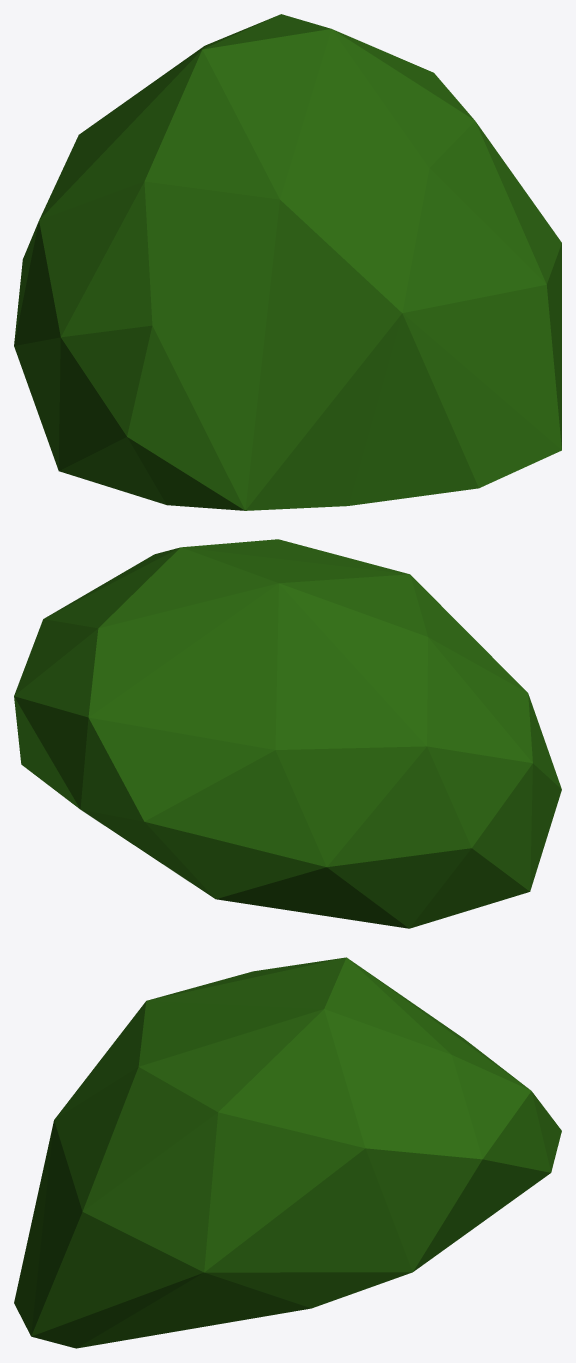
The model's file is SM_bush_01.fbx.
3 renders of one model, top to bottom at view 1: azimuth 30°, elevation 25°; view 2: azimuth 150°, elevation 25°; view 3: azimuth 270°, elevation 25°, orthographic. The views are drawn at different scales.
Visible parts, largest first — view 1: Object020; view 2: Object020; view 3: Object020.
Boxes of the visible parts, box(x1,y1,x2,y2) form: Object020: box(14, 14, 561, 510); Object020: box(14, 539, 561, 928); Object020: box(14, 957, 561, 1348).
Size of the model in its own units: 69.46 by 47.06 by 73.42.
